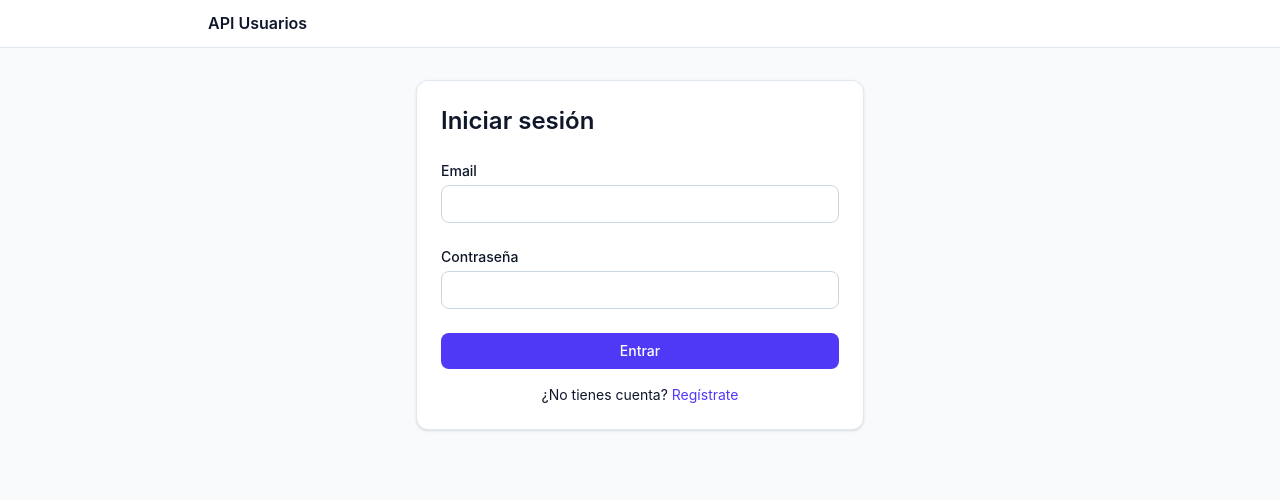
Test: Login › con un 429 muestra la espera y deshabilita el botón
Type "ana@example.com" into the field labelled "Email" at (640, 204), box [441,185,839,223]
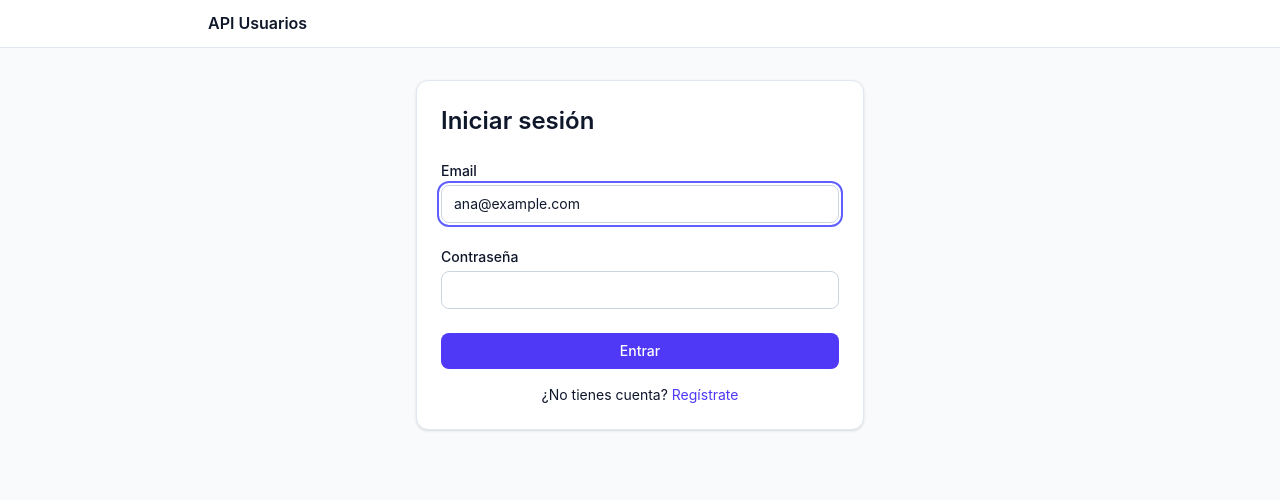
Type "Password1" into the password field labelled "Contraseña" at (640, 290), box [441,271,839,309]
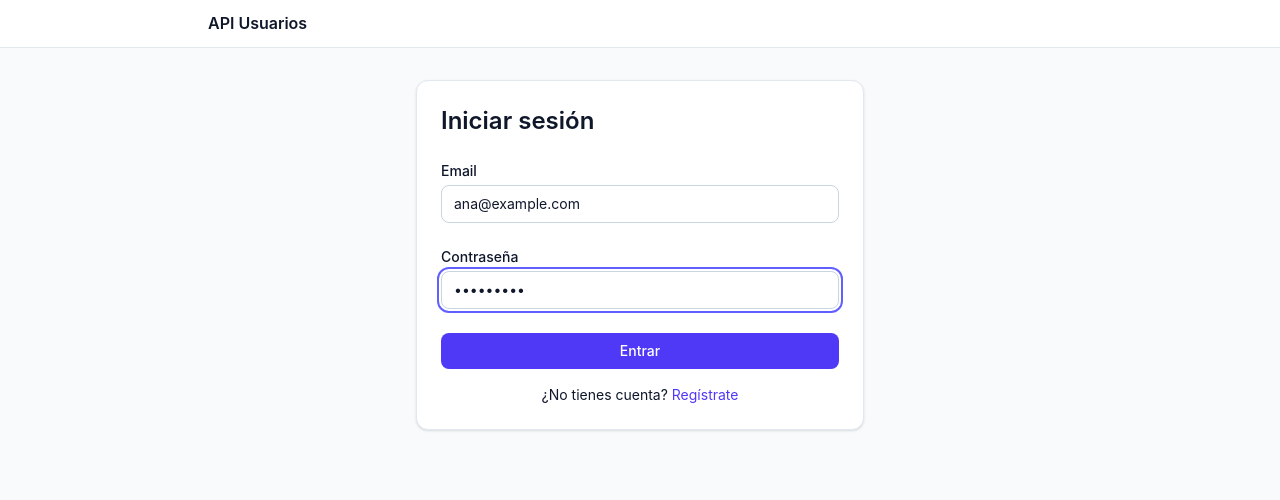
Click the button "Entrar" at (640, 351), box [441,333,839,369]
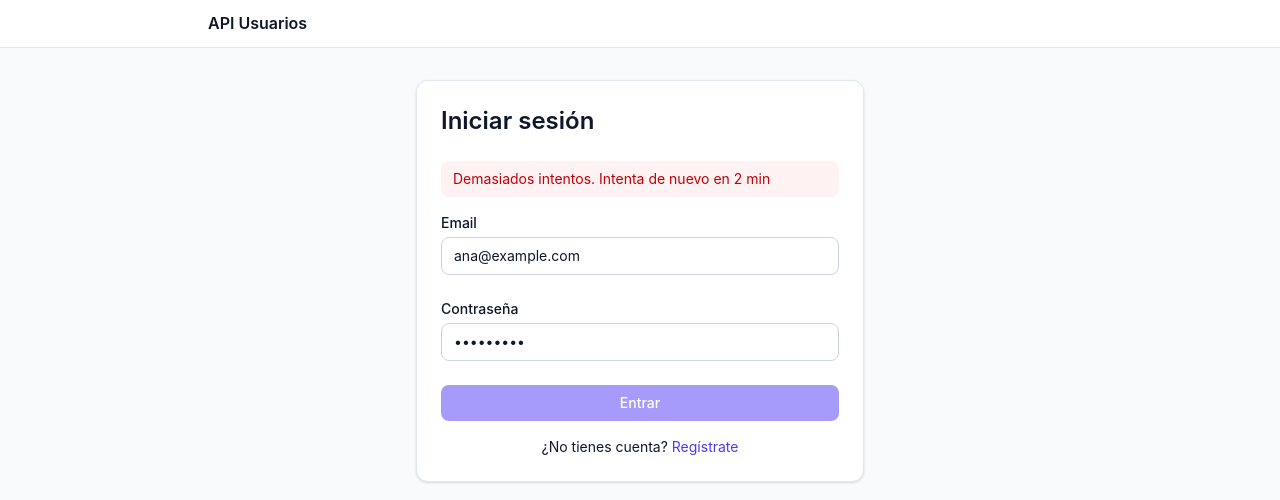
Expected: the text "Demasiados intentos. Intenta de nuevo en 2 min" is shown, [441,161,839,197]
Expected: the button "Entrar" is disabled, [441,385,839,421]
